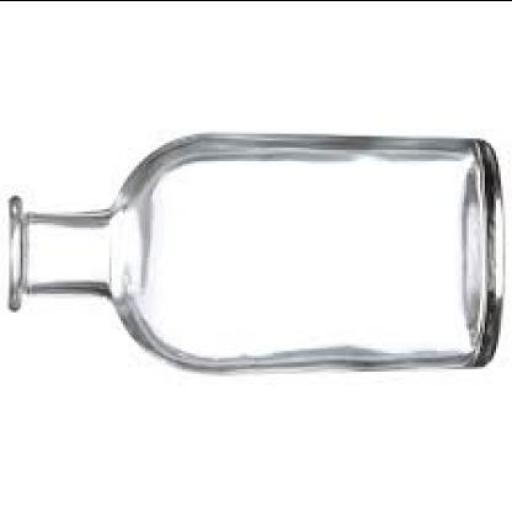glass: (5, 137, 498, 373)
